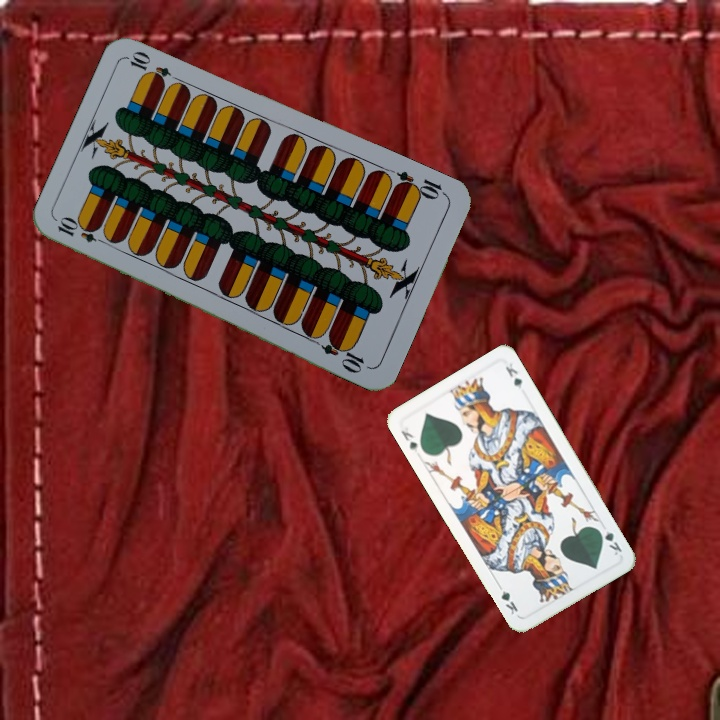E10: (391, 167, 449, 203), (53, 215, 111, 248)
GK: (594, 524, 625, 558), (397, 426, 420, 455)
